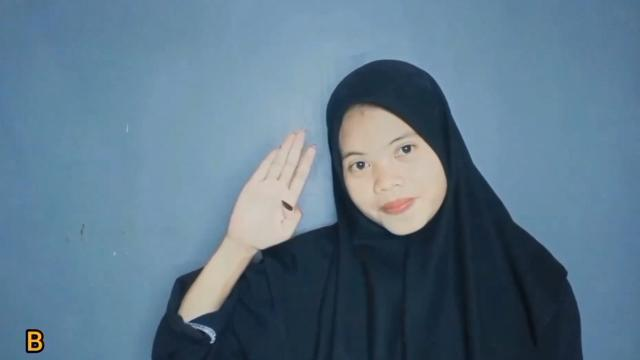B: (230, 126, 316, 253)
